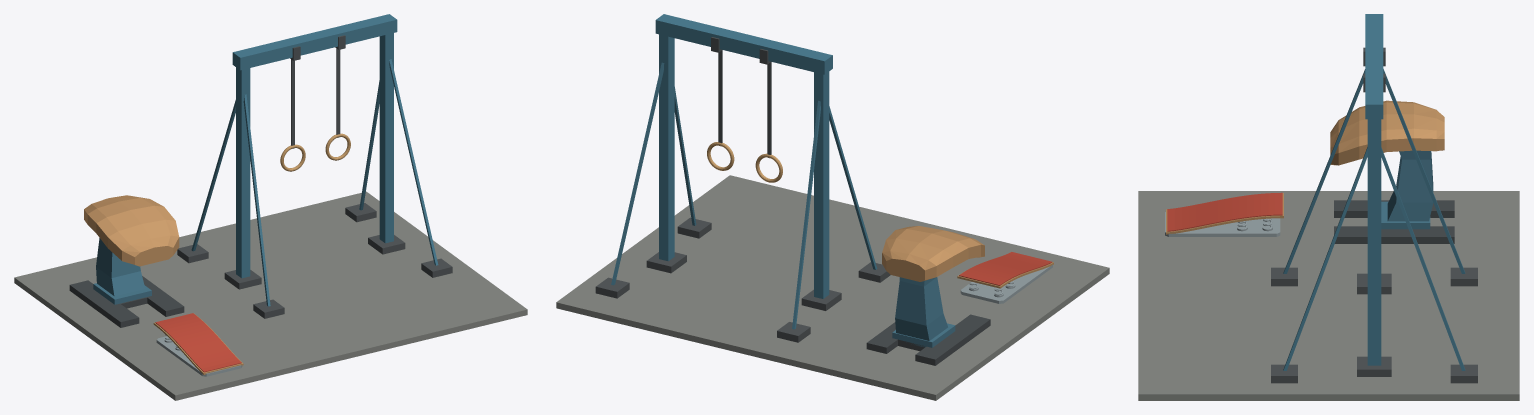
3 views of the same model, side by side, from view 1: azimuth 30°, elevation 25°; view 2: azimuth 150°, elevation 25°; view 3: azimuth 270°, elevation 25° (orthographic). The views are drawn at different scales.
Parts seen in each view (by area): view 1: SceneOnlyGymnasticsLayoutFloor, WholeBroadCrownedCurvedVaultHead, WholeHighTransversePortalBeam, RightWholeHighPortalColumn, LeftWholeHighPortalColumn, WholeContinuousCurvedTopPad, WholeForkEndedGroundChassis, WholeOffsetTaperedSupportColumn, LeftFrontWholeOutwardGuyStay, RightFrontWholeOutwardGuyStay, LeftBackWholeOutwardGuyStay, RightBackWholeOutwardGuyStay (+4 smaller); view 2: SceneOnlyGymnasticsLayoutFloor, WholeBroadCrownedCurvedVaultHead, WholeHighTransversePortalBeam, RightWholeHighPortalColumn, LeftWholeHighPortalColumn, WholeOffsetTaperedSupportColumn, WholeForkEndedGroundChassis, WholeContinuousCurvedTopPad, LeftBackWholeOutwardGuyStay, WholeChamferedGroundBase, RightBackWholeOutwardGuyStay, LeftFrontWholeOutwardGuyStay (+7 smaller); view 3: SceneOnlyGymnasticsLayoutFloor, WholeBroadCrownedCurvedVaultHead, RightWholeHighPortalColumn, WholeContinuousCurvedTopPad, WholeForkEndedGroundChassis, WholeOffsetTaperedSupportColumn, WholeHighTransversePortalBeam, WholeChamferedGroundBase, RightFrontWholeOutwardGuyStay, RightBackWholeOutwardGuyStay, LeftFrontWholeOutwardGuyStay, LeftBackWholeOutwardGuyStay (+8 smaller).
Part boxes in pixels (bbox=[...]): SceneOnlyGymnasticsLayoutFloor: bbox=[14, 191, 527, 400]; WholeBroadCrownedCurvedVaultHead: bbox=[84, 195, 179, 266]; WholeHighTransversePortalBeam: bbox=[232, 14, 397, 70]; RightWholeHighPortalColumn: bbox=[379, 33, 393, 243]; LeftWholeHighPortalColumn: bbox=[236, 67, 250, 278]; WholeContinuousCurvedTopPad: bbox=[155, 313, 241, 372]; WholeForkEndedGroundChassis: bbox=[69, 276, 184, 327]; WholeOffsetTaperedSupportColumn: bbox=[96, 238, 145, 296]; LeftFrontWholeOutwardGuyStay: bbox=[243, 94, 270, 306]; RightFrontWholeOutwardGuyStay: bbox=[389, 59, 438, 265]; LeftBackWholeOutwardGuyStay: bbox=[191, 100, 235, 251]; RightBackWholeOutwardGuyStay: bbox=[359, 80, 379, 210]; SceneOnlyGymnasticsLayoutFloor: bbox=[556, 175, 1109, 400]; WholeBroadCrownedCurvedVaultHead: bbox=[882, 226, 984, 281]; WholeHighTransversePortalBeam: bbox=[655, 14, 832, 74]; RightWholeHighPortalColumn: bbox=[659, 34, 674, 261]; LeftWholeHighPortalColumn: bbox=[814, 72, 829, 298]; WholeOffsetTaperedSupportColumn: bbox=[895, 277, 947, 340]; WholeForkEndedGroundChassis: bbox=[866, 314, 990, 365]; WholeContinuousCurvedTopPad: bbox=[959, 252, 1052, 285]; LeftBackWholeOutwardGuyStay: bbox=[792, 100, 820, 329]; WholeChamferedGroundBase: bbox=[960, 264, 1052, 303]; RightBackWholeOutwardGuyStay: bbox=[611, 62, 664, 285]; LeftFrontWholeOutwardGuyStay: bbox=[829, 106, 877, 269]; SceneOnlyGymnasticsLayoutFloor: bbox=[1138, 191, 1519, 400]; WholeBroadCrownedCurvedVaultHead: bbox=[1330, 100, 1444, 165]; RightWholeHighPortalColumn: bbox=[1367, 119, 1381, 365]; WholeContinuousCurvedTopPad: bbox=[1167, 192, 1282, 231]; WholeForkEndedGroundChassis: bbox=[1334, 200, 1454, 243]; WholeOffsetTaperedSupportColumn: bbox=[1387, 150, 1433, 221]; WholeHighTransversePortalBeam: bbox=[1365, 14, 1383, 119]; WholeChamferedGroundBase: bbox=[1165, 212, 1280, 236]; RightFrontWholeOutwardGuyStay: bbox=[1283, 147, 1367, 370]; RightBackWholeOutwardGuyStay: bbox=[1381, 147, 1465, 370]; LeftFrontWholeOutwardGuyStay: bbox=[1283, 69, 1365, 273]; LeftBackWholeOutwardGuyStay: bbox=[1383, 69, 1465, 273].
Size of the model in its own units: 5.3 by 3.36 by 4.2.
